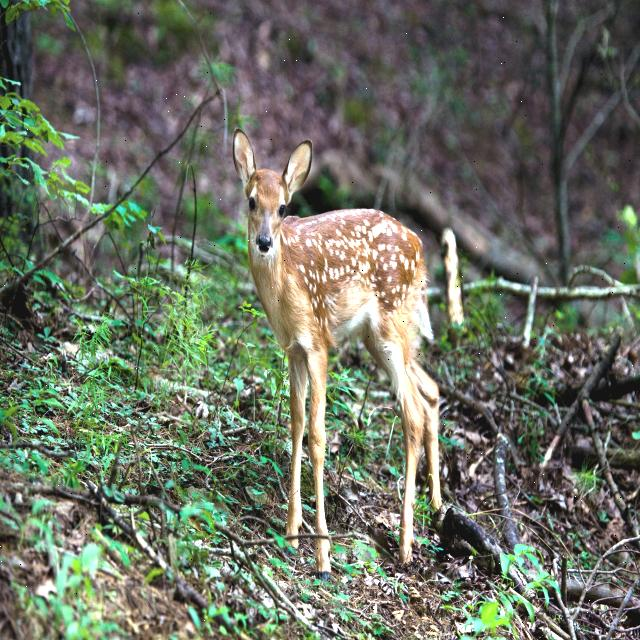deer: (232, 111, 436, 559)
